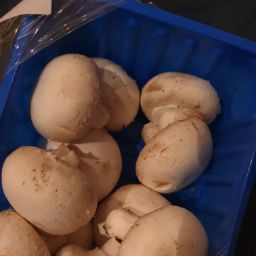Mushrooms: (14, 37, 248, 233), (129, 61, 231, 197), (26, 47, 148, 149), (2, 135, 124, 229), (80, 174, 205, 256), (2, 201, 61, 256)
